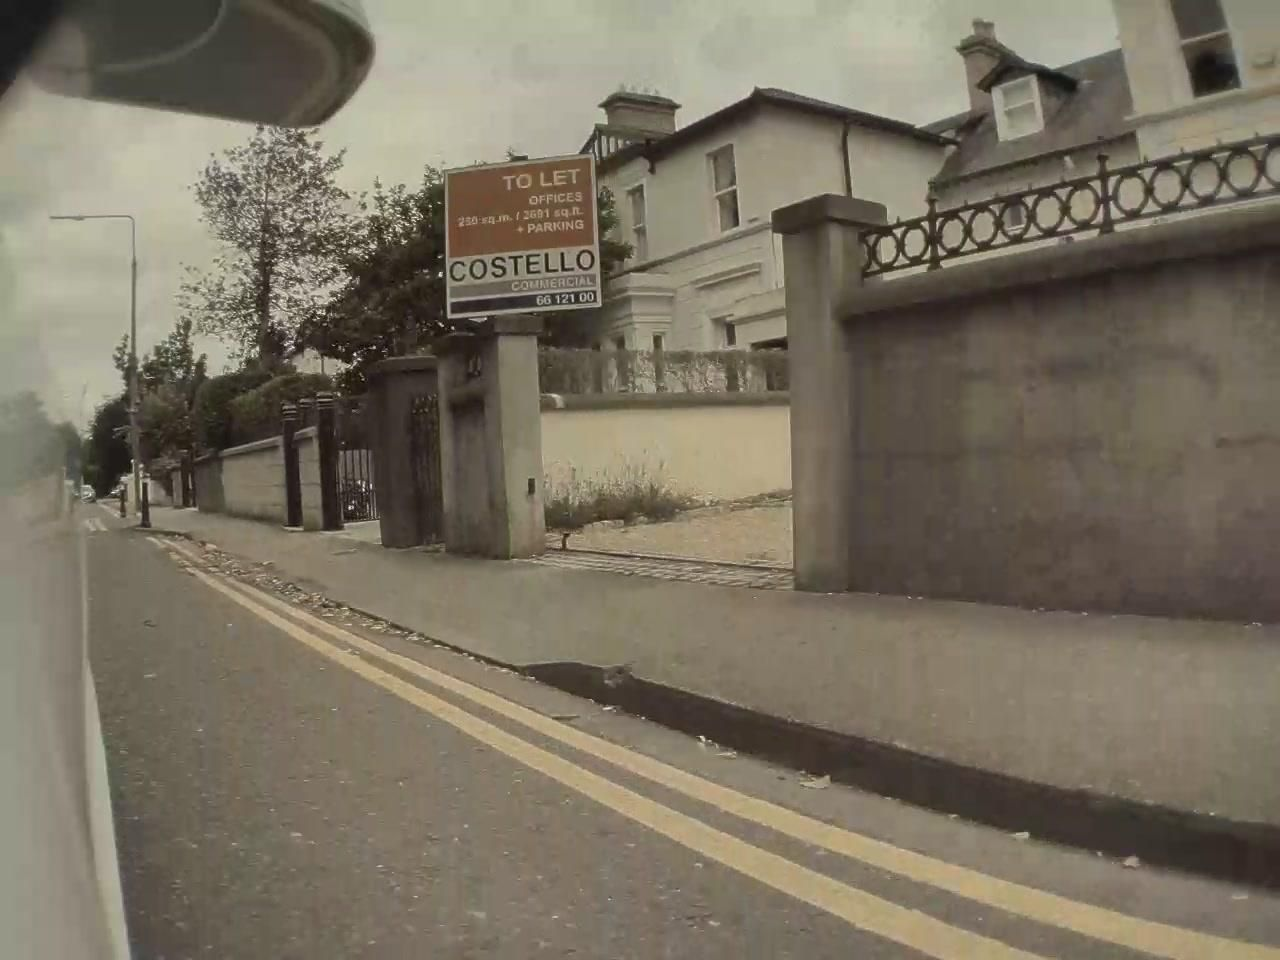property sign: (410, 135, 627, 332)
